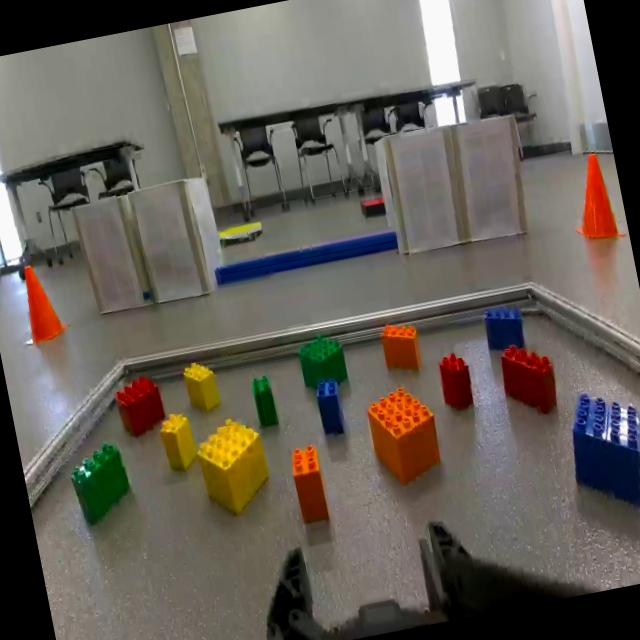block: (192, 409, 278, 524), (157, 408, 202, 478), (182, 356, 225, 419)
blue: (560, 383, 640, 521), (480, 298, 530, 352), (313, 376, 348, 439)
cone: (561, 145, 628, 253), (10, 258, 74, 352)
green: (66, 439, 137, 528), (294, 326, 351, 394), (250, 372, 280, 432)
metal barrier: (5, 257, 640, 516)
orange: (365, 382, 447, 492), (288, 444, 333, 526), (378, 315, 426, 379)
red: (362, 196, 388, 220)
red goal: (495, 332, 564, 422), (112, 372, 168, 439), (436, 348, 478, 416)
river: (214, 231, 399, 288)
storage cube: (130, 178, 230, 306), (373, 125, 469, 258), (446, 113, 538, 245), (70, 192, 156, 320)
yellow goal: (218, 220, 264, 248)
